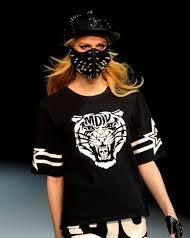OK: (67, 39, 111, 83)
